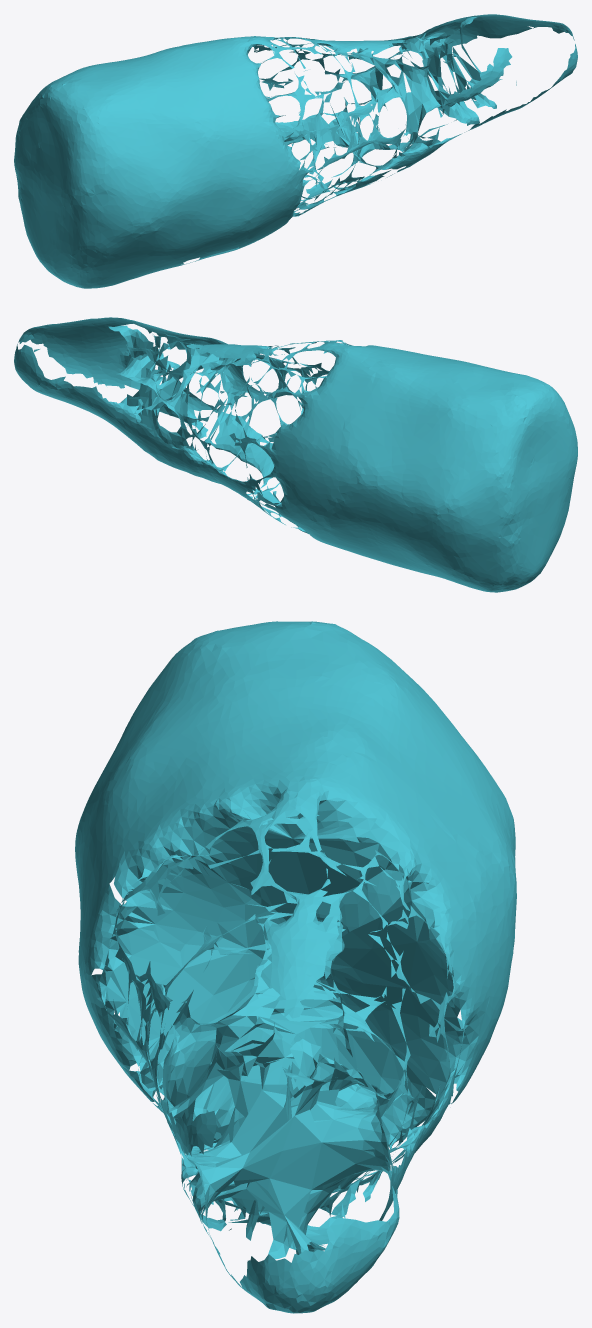
The picture shows the model from 3 angles, top to bottom: view 1: azimuth 30°, elevation 25°; view 2: azimuth 150°, elevation 25°; view 3: azimuth 270°, elevation 25°; orthographic projection. The views are drawn at different scales.
Parts seen in each view (by area): view 1: Renderer Node; view 2: Renderer Node; view 3: Renderer Node.
Part boxes in pixels (x1,y1,x2,y2): Renderer Node: [14, 14, 577, 288]; Renderer Node: [14, 317, 577, 592]; Renderer Node: [75, 621, 516, 1313].
Bounding box in the file's own units: 0.9733 × 0.3519 × 0.3508.
1 material, 1 textured.
